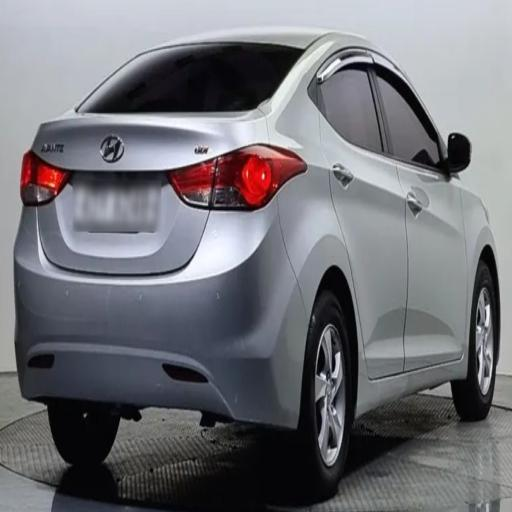normal: (6, 16, 512, 484)
